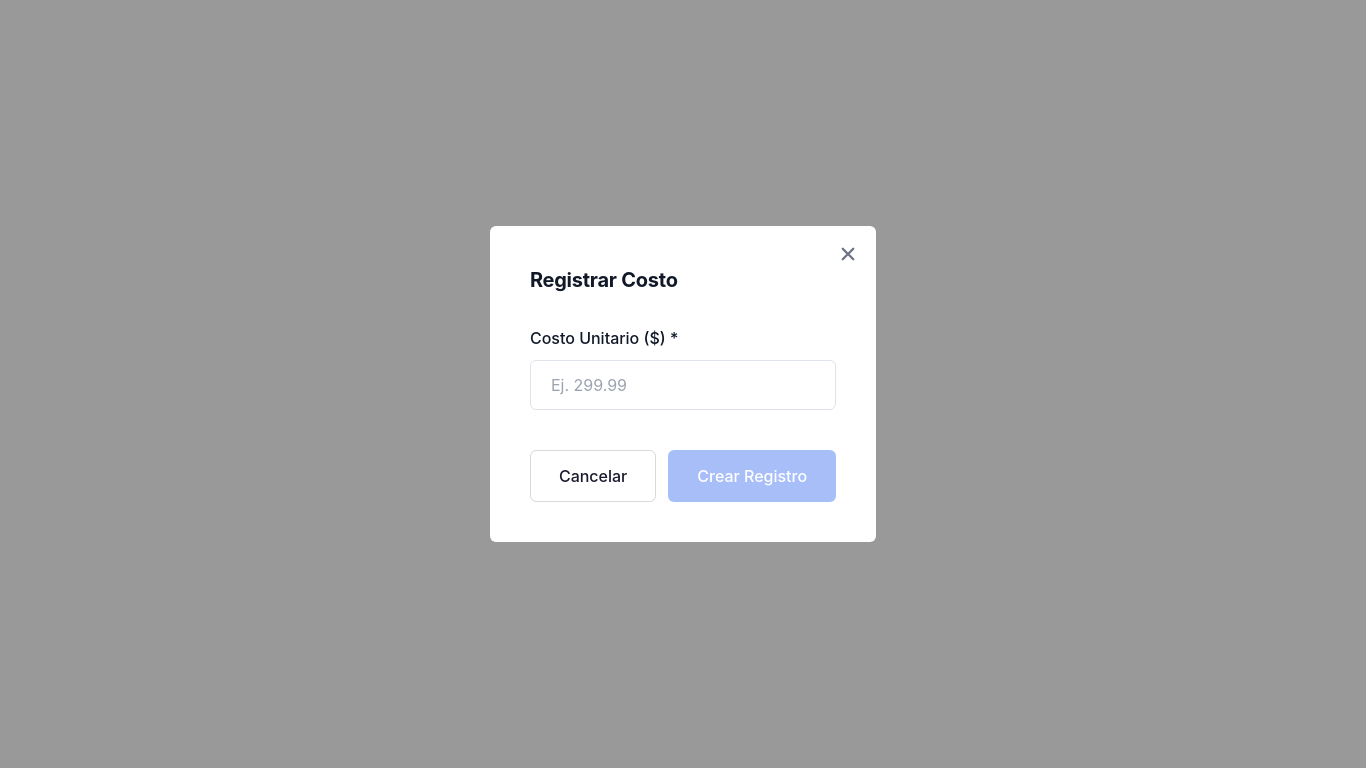
it: Componente: RegistroDetalleModal › debe habilitar el botón de submit al escribir en el campo de costo
Type "150" into the number field labelled "Costo Unitario ($) *" at (685, 385), box [551,373,819,397]
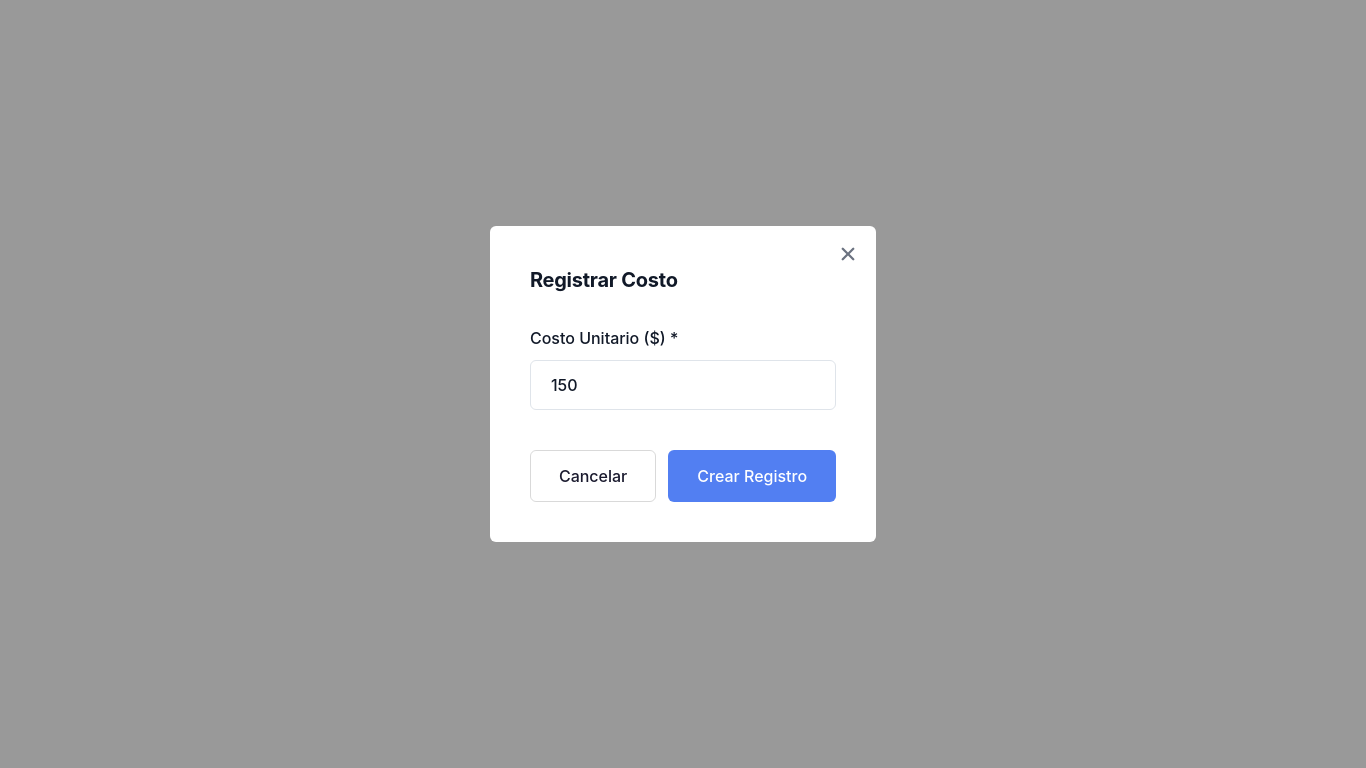
Expected: the button "Crear Registro" is enabled, [668,450,836,502]
